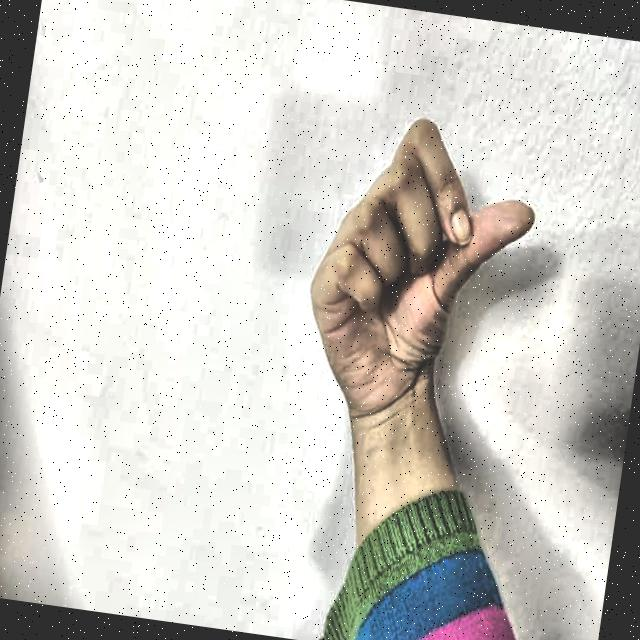Ay: (258, 74, 572, 452)
